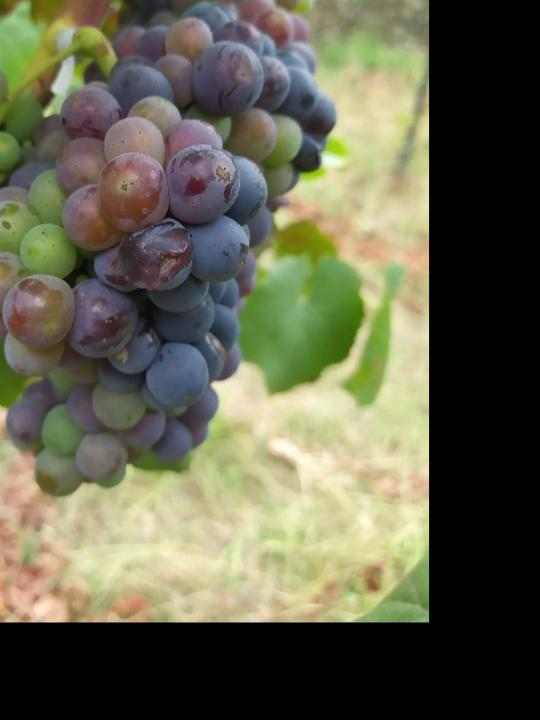grape: (0, 15, 276, 501)
